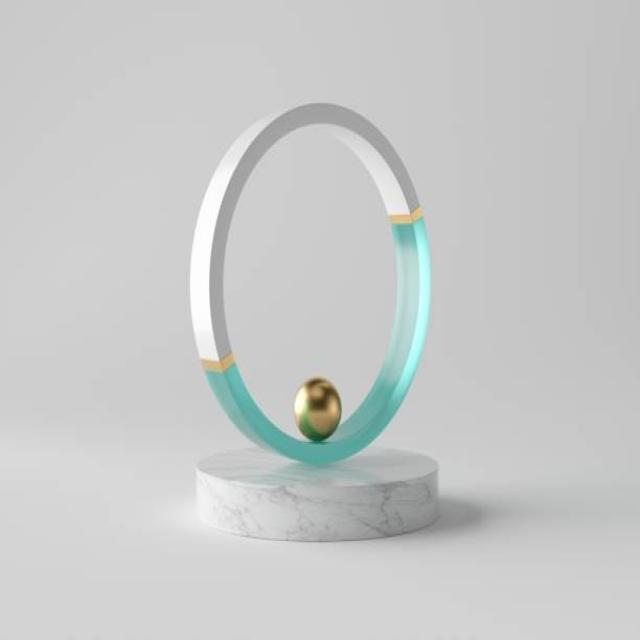Metamorphic: (148, 98, 468, 546)
